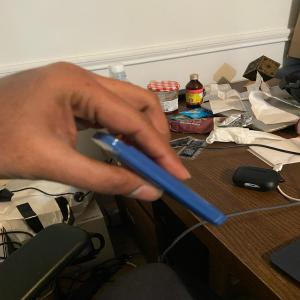Diamond-E-Ciggirate: (97, 122, 227, 225)
